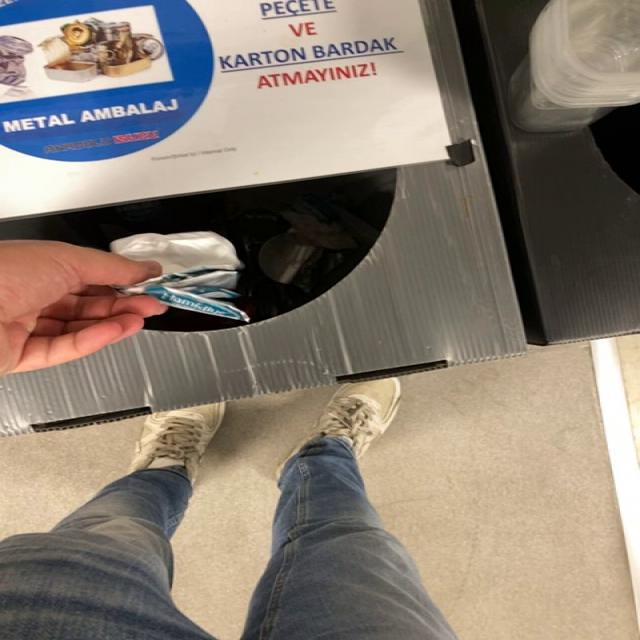bin: (1, 0, 525, 436)
metal: (111, 231, 249, 322)
